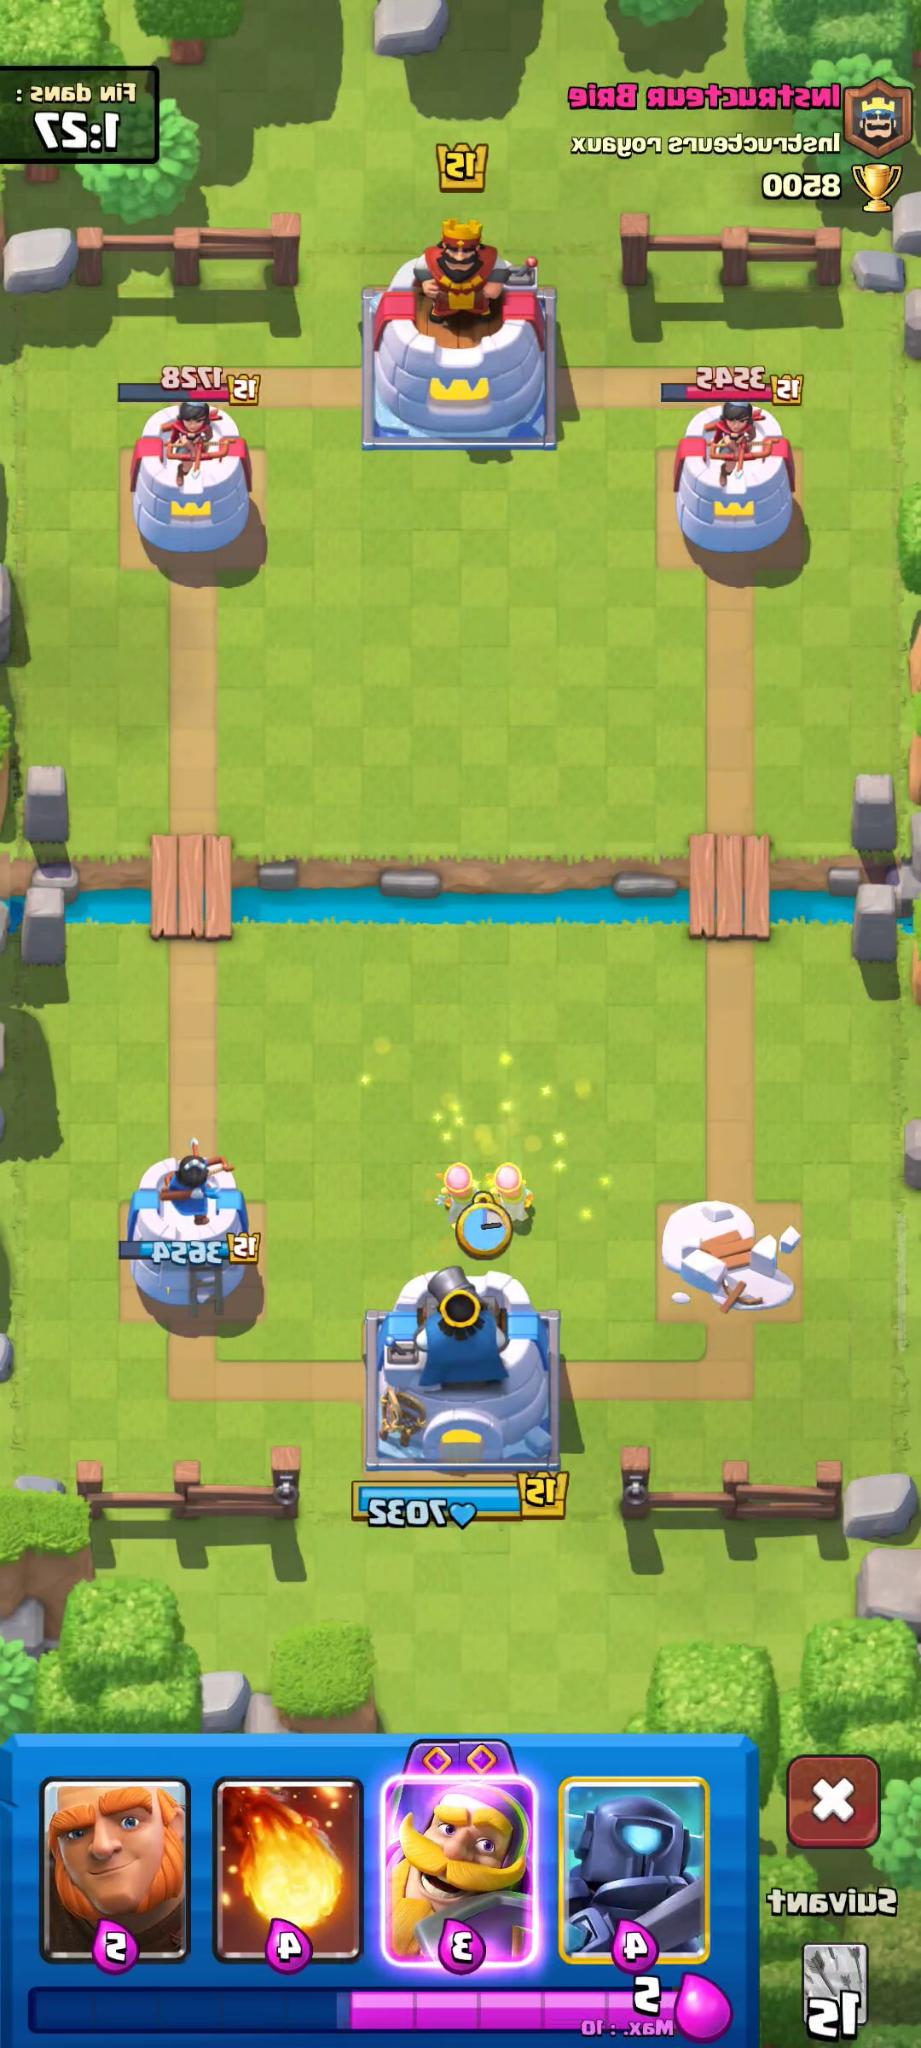archere: (481, 1147, 542, 1237), (428, 1155, 491, 1237)
